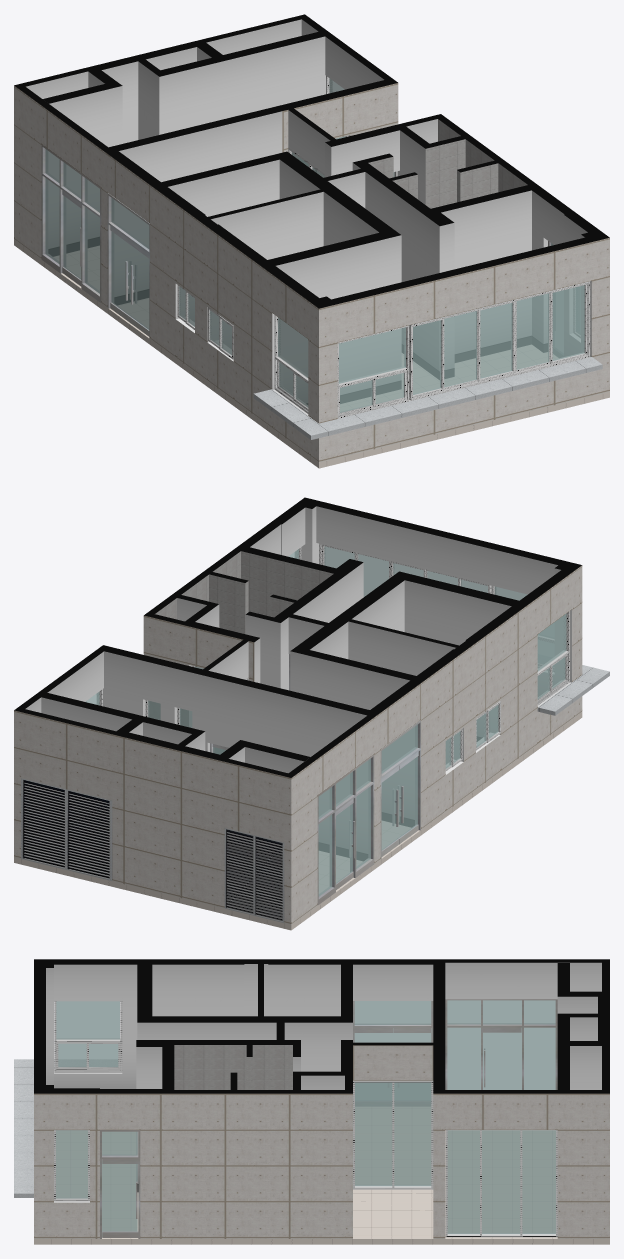
File: Security-office-1F.glb
3 views of the same model, one above another, from view 1: azimuth 30°, elevation 25°; view 2: azimuth 150°, elevation 25°; view 3: azimuth 270°, elevation 25° (orthographic). The views are drawn at different scales.
Parts seen in each view (by area): view 1: Box060, 1F, Box099, Rectangle902, Rectangle910, Line1546; view 2: Box060, 1F, Box104, Rectangle910, Box099, Rectangle902, Line1546; view 3: Box060, 1F, Box099, Rectangle902, Rectangle910, Line1546.
Boxes of the visible parts, left/top/right/bottom form: Box060: left=14, top=14, right=609, bottom=462; 1F: left=45, top=78, right=584, bottom=412; Box099: left=14, top=240, right=609, bottom=468; Rectangle902: left=177, top=76, right=590, bottom=418; Rectangle910: left=41, top=144, right=552, bottom=338; Line1546: left=253, top=357, right=602, bottom=439; Box060: left=14, top=497, right=582, bottom=924; 1F: left=85, top=546, right=566, bottom=896; Box104: left=21, top=778, right=284, bottom=922; Rectangle910: left=210, top=654, right=420, bottom=905; Box099: left=14, top=712, right=582, bottom=930; Rectangle902: left=96, top=543, right=569, bottom=771; Line1546: left=537, top=665, right=609, bottom=715; Box060: left=34, top=959, right=609, bottom=1238; 1F: left=56, top=1000, right=555, bottom=1236; Box099: left=34, top=1107, right=609, bottom=1244; Rectangle902: left=54, top=1001, right=557, bottom=1237; Rectangle910: left=100, top=999, right=557, bottom=1238; Line1546: left=14, top=1059, right=117, bottom=1197.
Size of the model in its own units: 8.4 by 4.15 by 14.85.
Materials: 12 (10 with a texture image).
